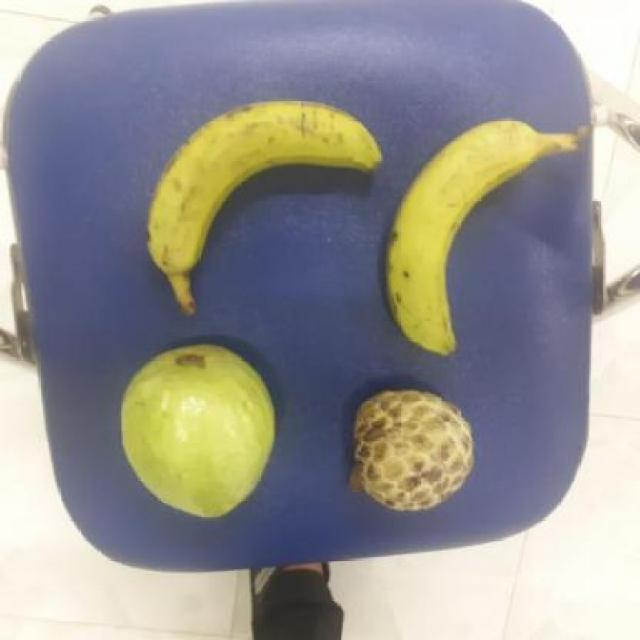banana: (138, 99, 374, 278), (379, 122, 543, 353)
guava: (109, 345, 274, 517)
sugar apple: (340, 389, 474, 513)
